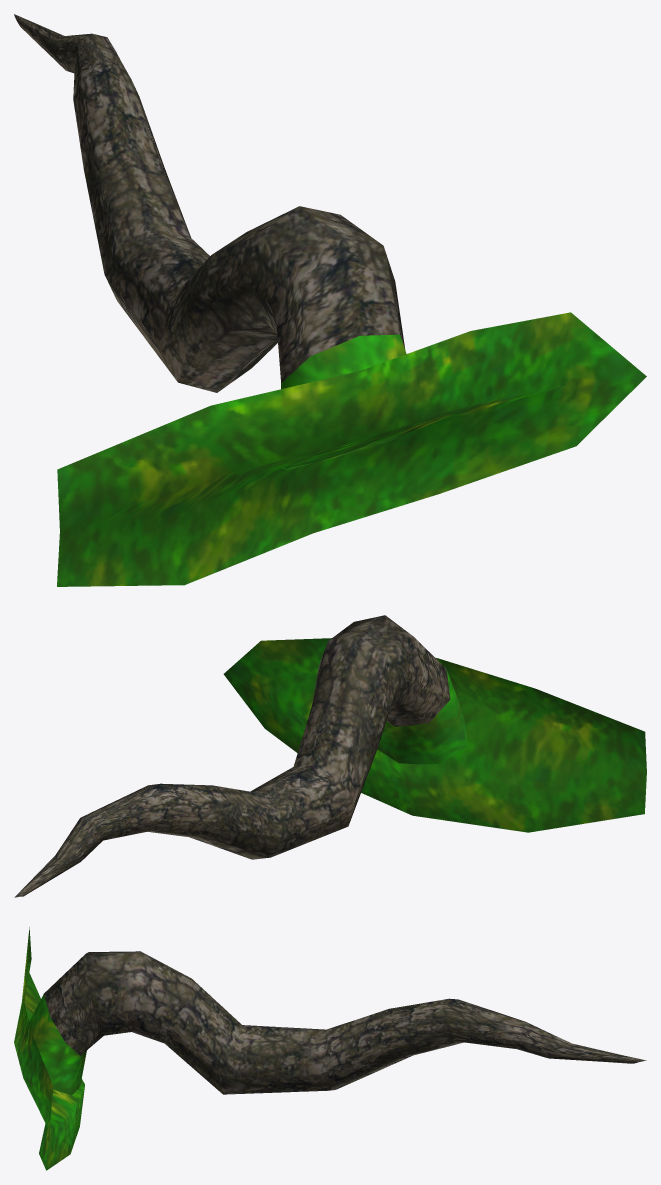
Rendered from EKH_ENTRANCE_PS_EN_BRANCH383786__GX.fbx.
3 views of the same model, one above another, from view 1: azimuth 30°, elevation 25°; view 2: azimuth 150°, elevation 25°; view 3: azimuth 270°, elevation 25° (orthographic). The views are drawn at different scales.
Visible parts, largest first — view 1: EKH_ENTRANCE_PS_EN_BRANCH383786__GX; view 2: EKH_ENTRANCE_PS_EN_BRANCH383786__GX; view 3: EKH_ENTRANCE_PS_EN_BRANCH383786__GX.
Part boxes in pixels (left/top/right/bottom): EKH_ENTRANCE_PS_EN_BRANCH383786__GX: left=14, top=14, right=646, bottom=586; EKH_ENTRANCE_PS_EN_BRANCH383786__GX: left=14, top=615, right=646, bottom=897; EKH_ENTRANCE_PS_EN_BRANCH383786__GX: left=14, top=927, right=646, bottom=1170.
Bounding box in the file's own units: 46075 × 21075 × 64937.
3 materials, 3 textured.
